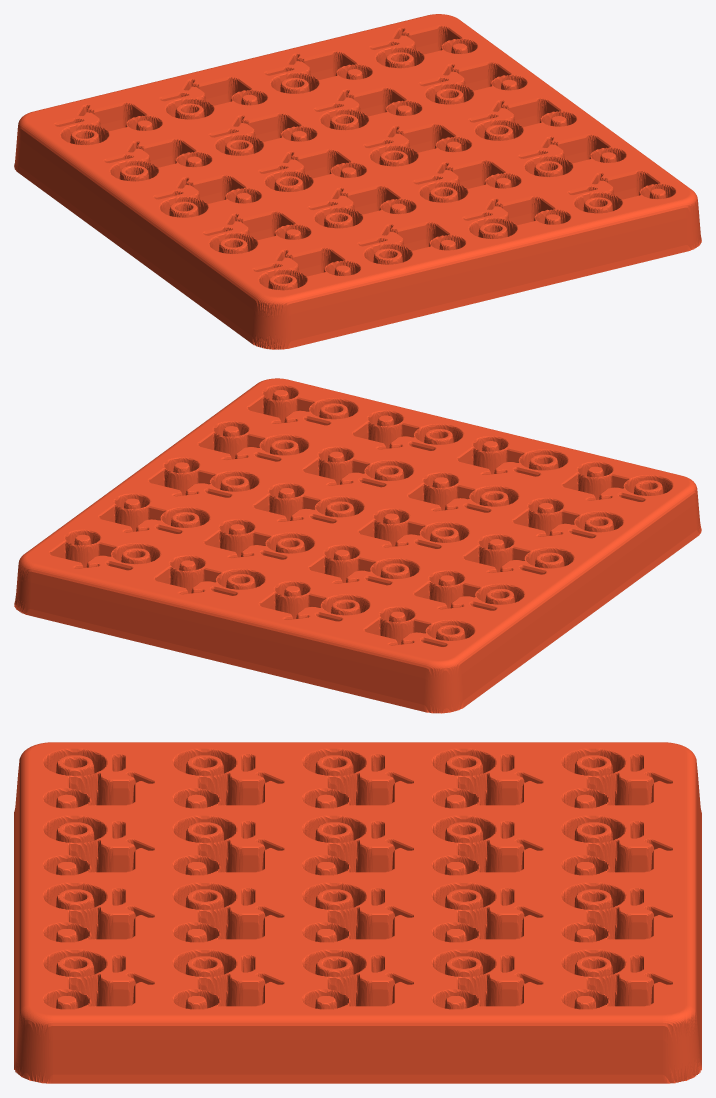
Rendered from mold.glb.
3 renders of one model, top to bottom at view 1: azimuth 30°, elevation 25°; view 2: azimuth 150°, elevation 25°; view 3: azimuth 270°, elevation 25°, orthographic. The views are drawn at different scales.
Visible parts, largest first — view 1: geometry_0; view 2: geometry_0; view 3: geometry_0.
Boxes of the visible parts, box(x1,y1,x2,y2) form: geometry_0: box(14, 14, 701, 349); geometry_0: box(14, 378, 701, 713); geometry_0: box(14, 742, 701, 1083).
Size of the model in its own units: 0.1563 by 0.0159 by 0.1595.
